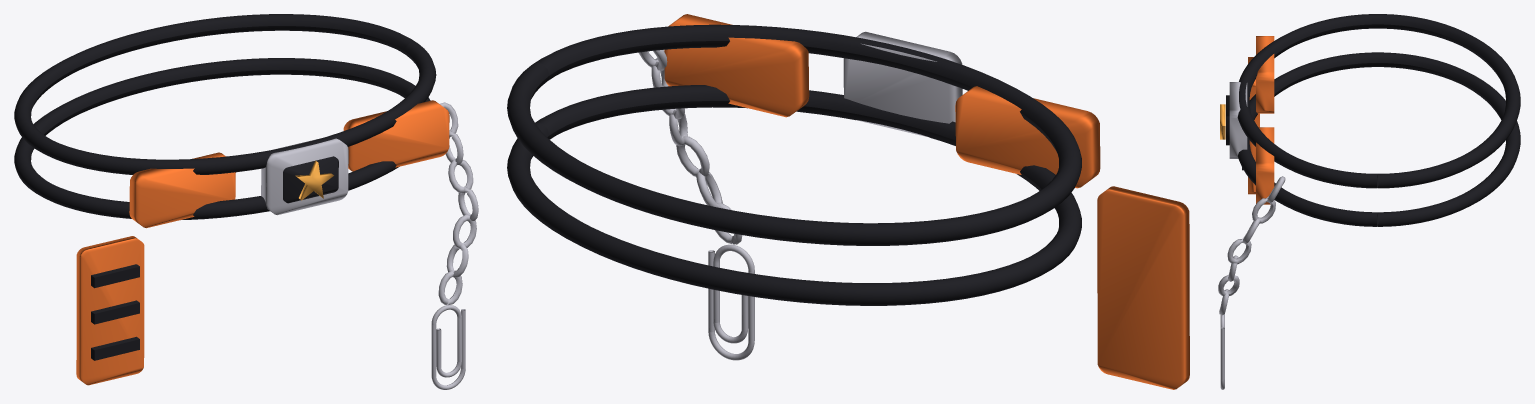
The model's file is sol_belt_and_charms.glb.
The picture shows the model from 3 angles, left to right: view 1: azimuth 30°, elevation 25°; view 2: azimuth 150°, elevation 25°; view 3: azimuth 270°, elevation 25°; orthographic projection. The views are drawn at different scales.
Parts seen in each view (by area): view 1: sol_belt_and_charms; view 2: sol_belt_and_charms; view 3: sol_belt_and_charms.
Boxes of the visible parts, left/top/right/bottom form: sol_belt_and_charms: left=14, top=14, right=478, bottom=389; sol_belt_and_charms: left=507, top=14, right=1189, bottom=389; sol_belt_and_charms: left=1218, top=14, right=1520, bottom=389.
Bounding box in the file's own units: 0.4495 × 0.2821 × 0.3279.
